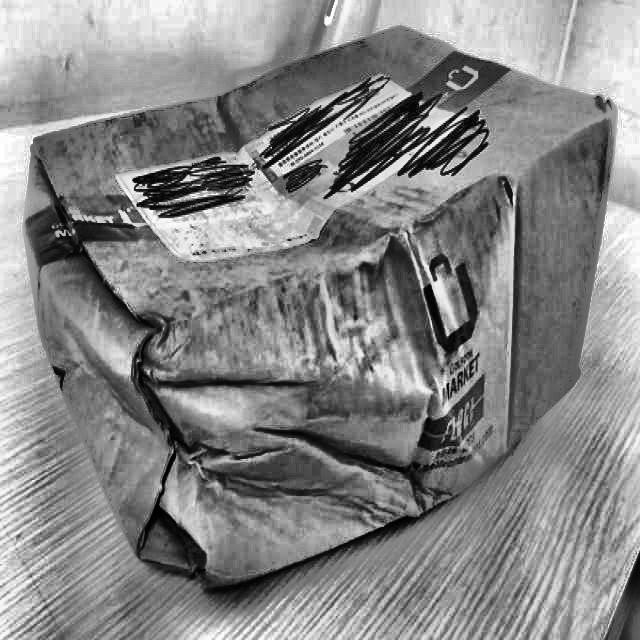box: (12, 15, 626, 601)
hole: (141, 497, 215, 581)
